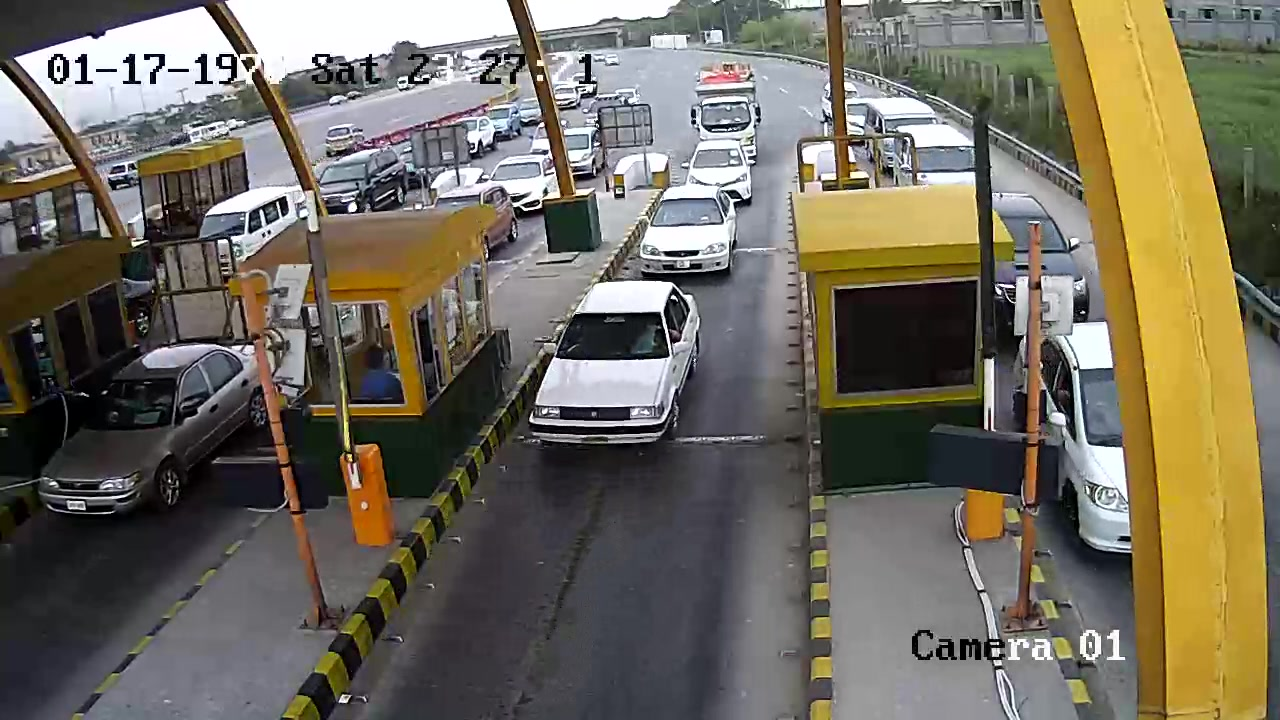F1: (524, 269, 719, 462)
